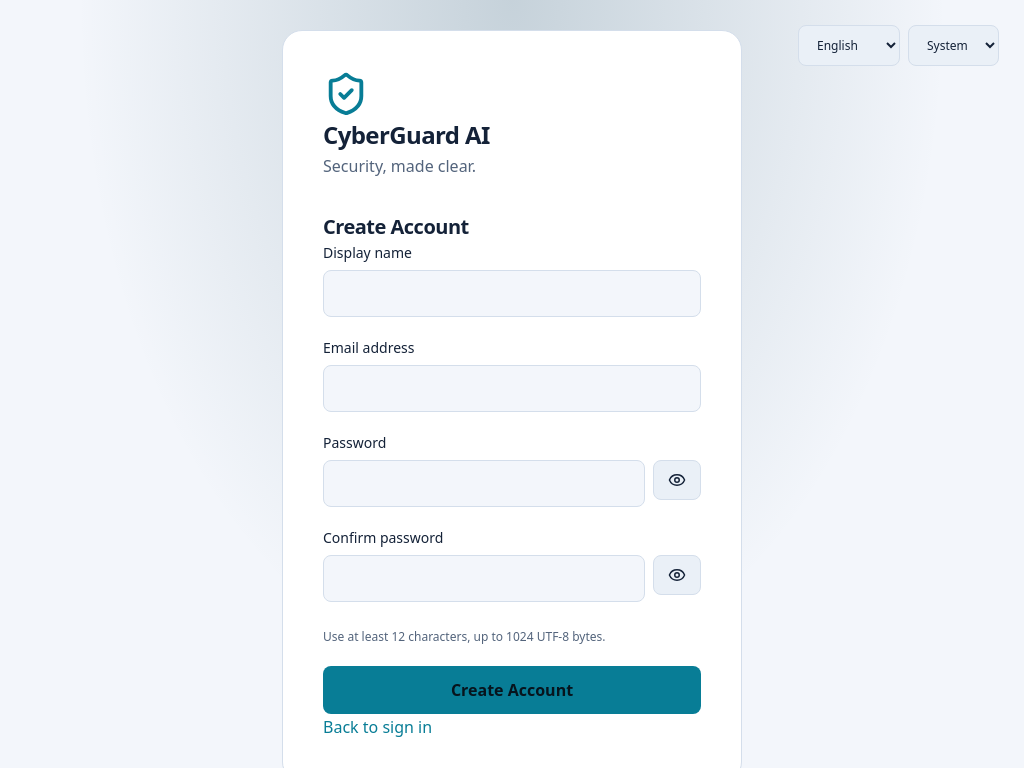
Scenario: website registration › rejects mismatched confirmation without submitting
This screenshot has width=1024, height=768.
Type "New user" into the field labelled "Display name" at point(512, 294), box [323,270,701,317]
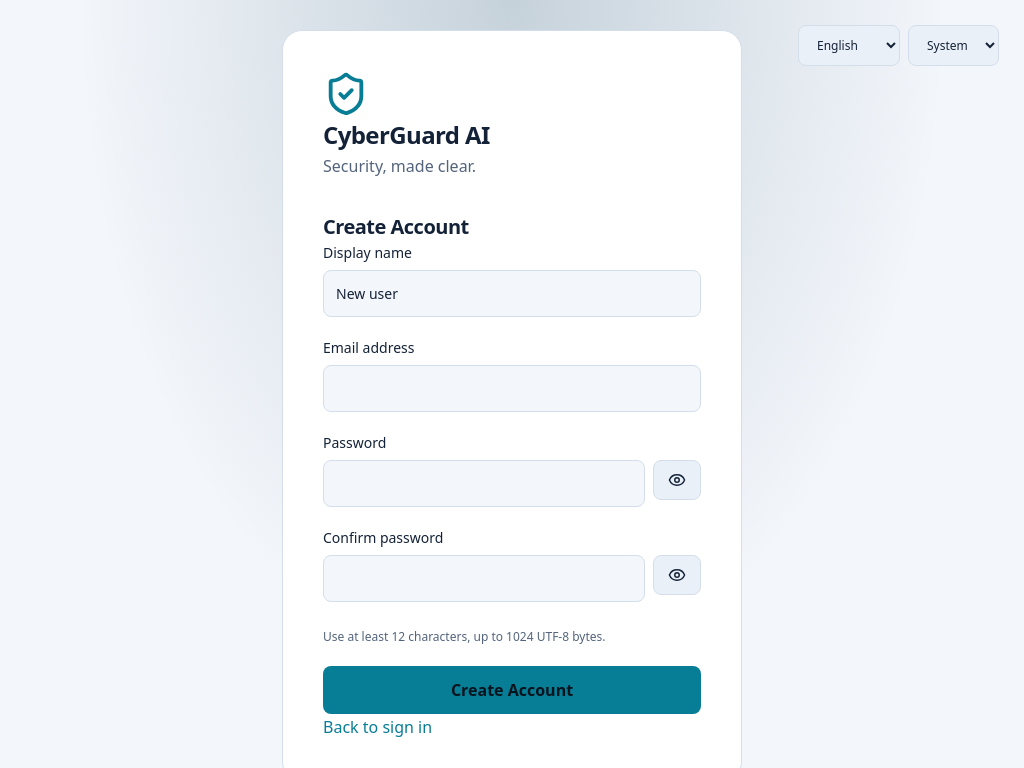
Type "new@example.com" into the field labelled "Email address" at point(512, 389), box [323,365,701,412]
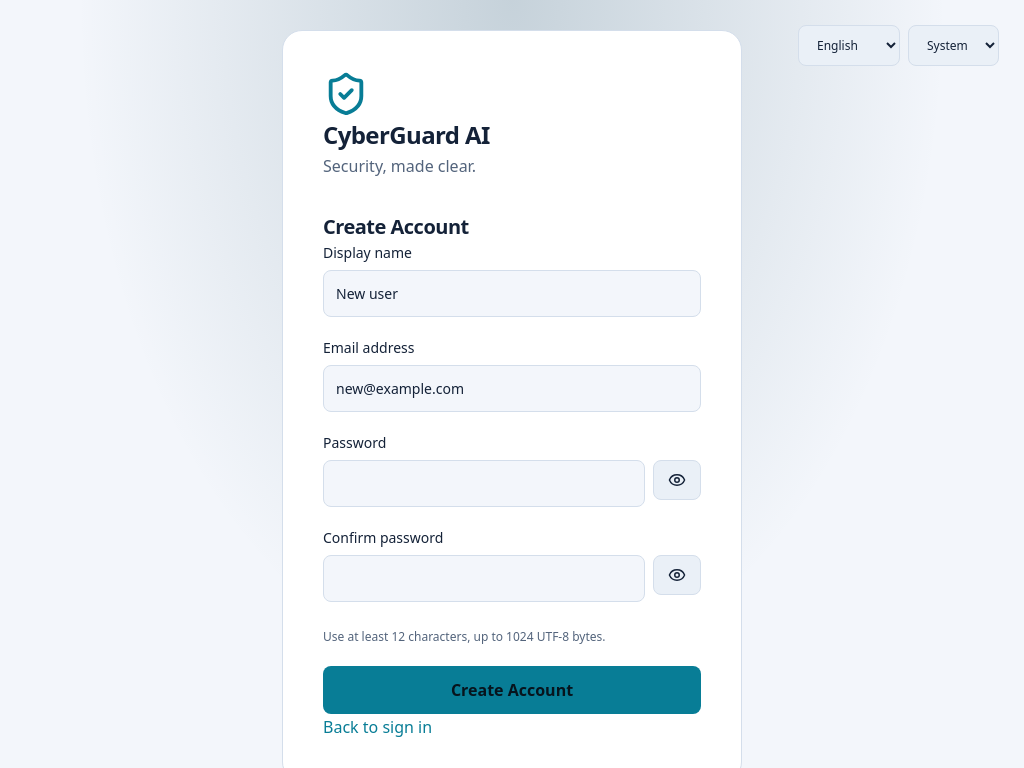
Type "a secure new passphrase" into the password field labelled "Password" at point(484, 484), box [323,460,645,507]
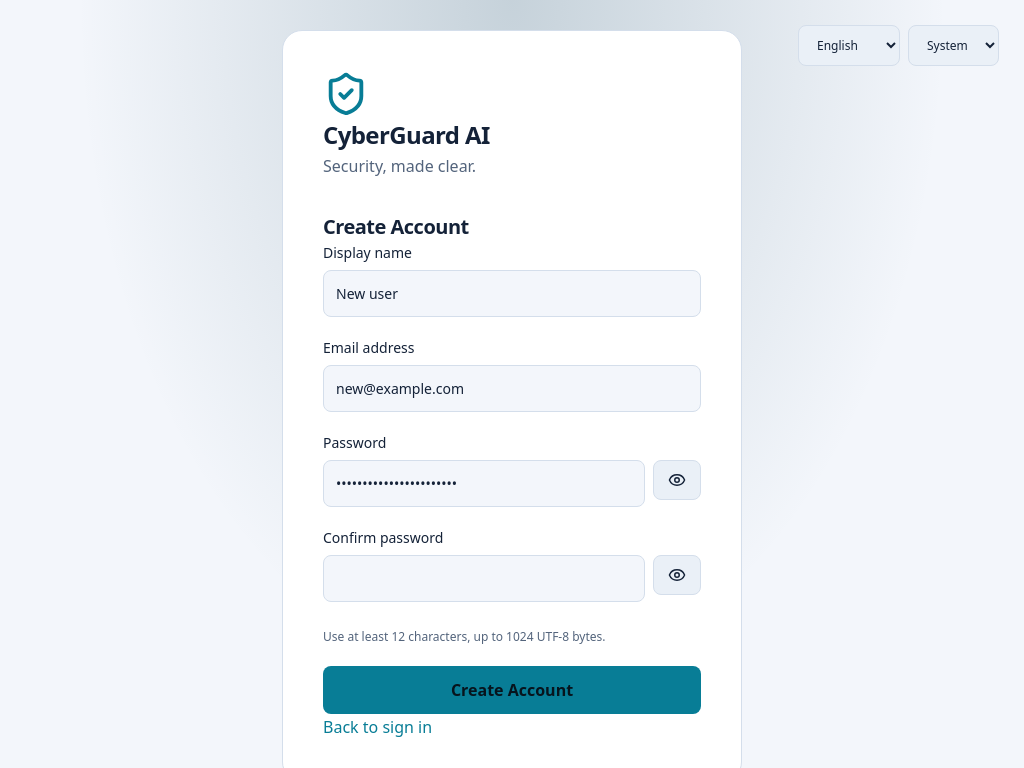
Type "a secure new passphrase" into the password field labelled "Confirm password" at point(484, 579), box [323,555,645,602]
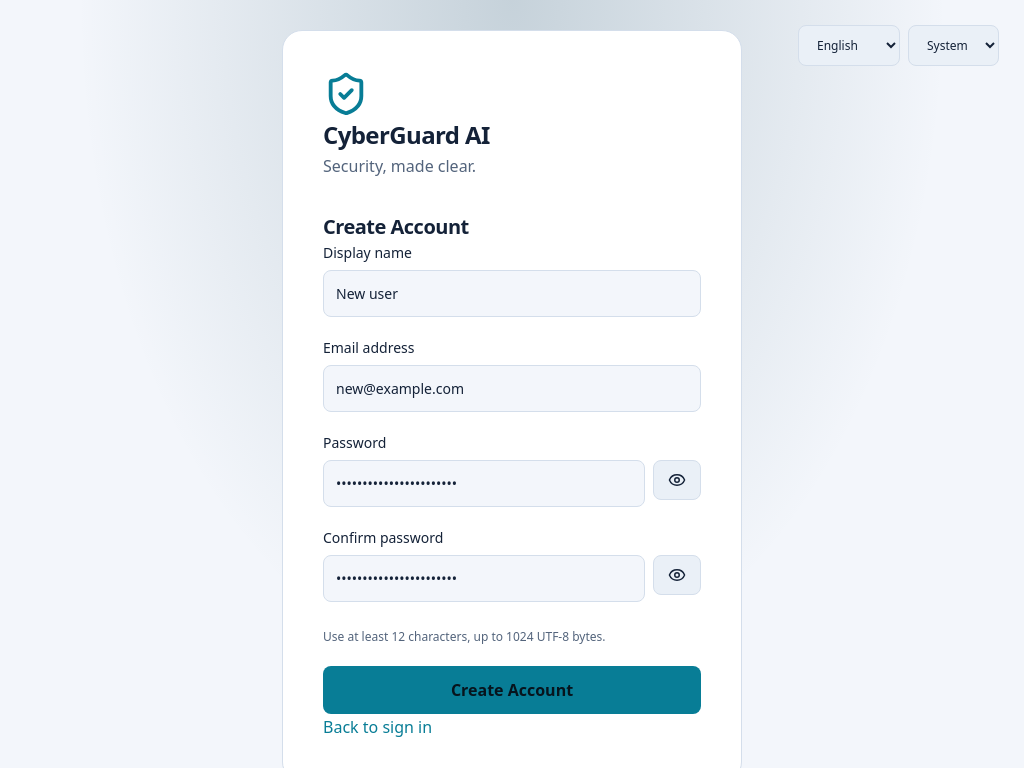
Type "different passphrase" into the password field labelled "Confirm password" at point(484, 579), box [323,555,645,602]
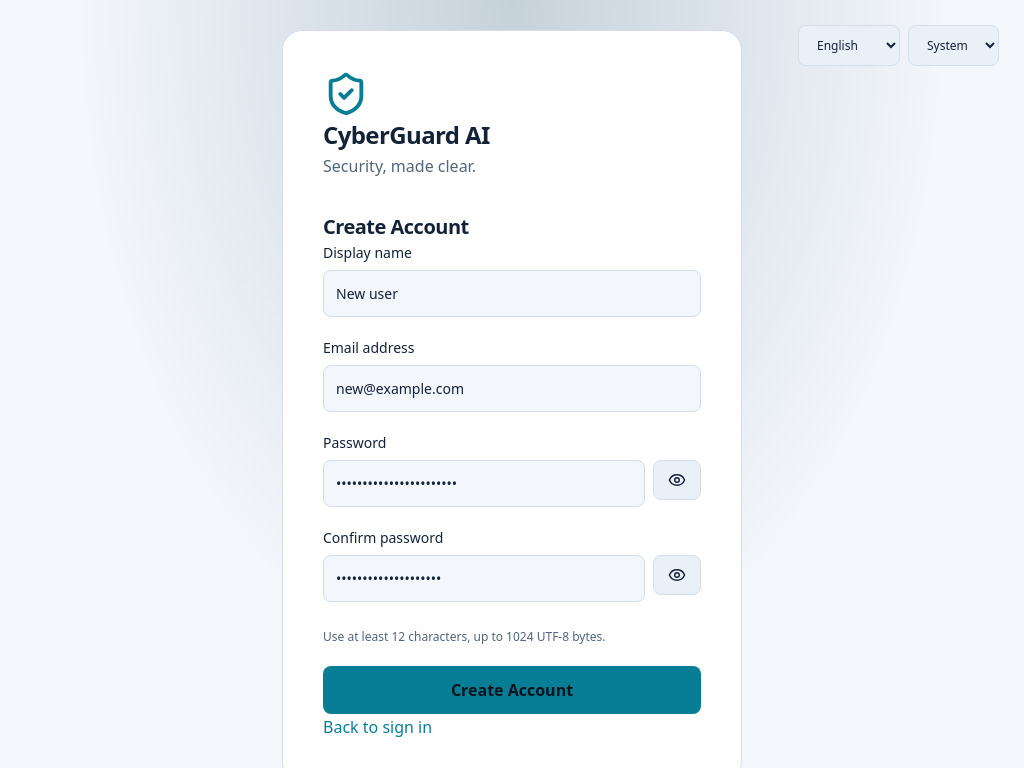
Click the button "Create Account" at point(512, 690), box [323,666,701,714]
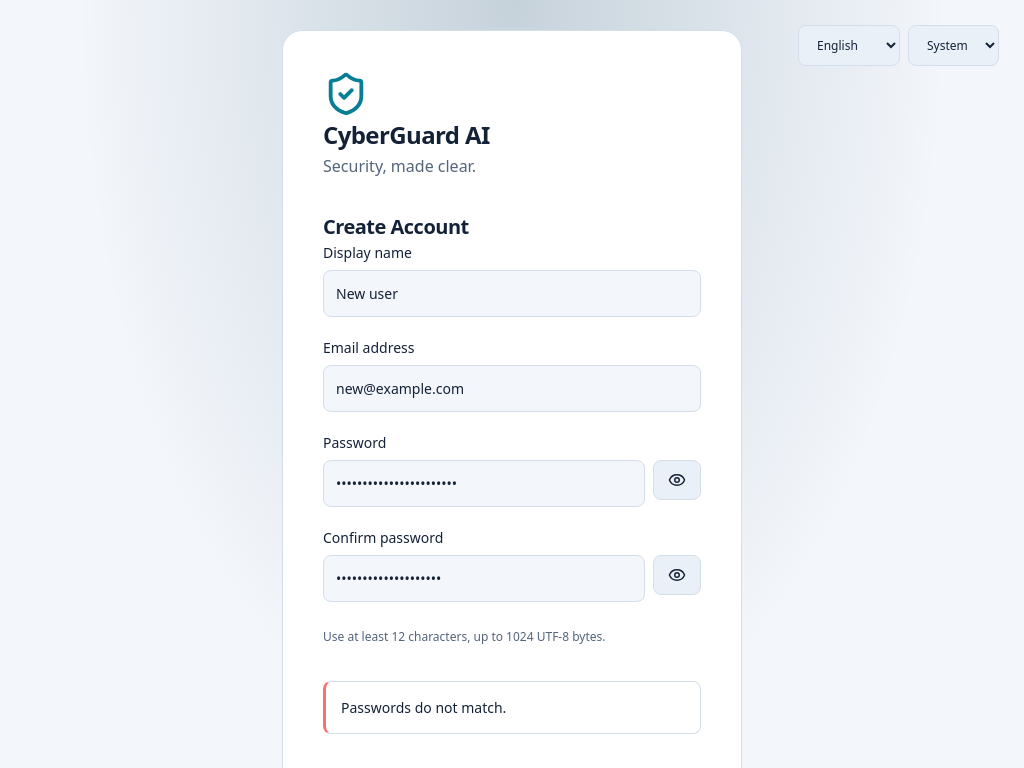
Expected: the message shows "Passwords do not match", [341,698,506,717]
